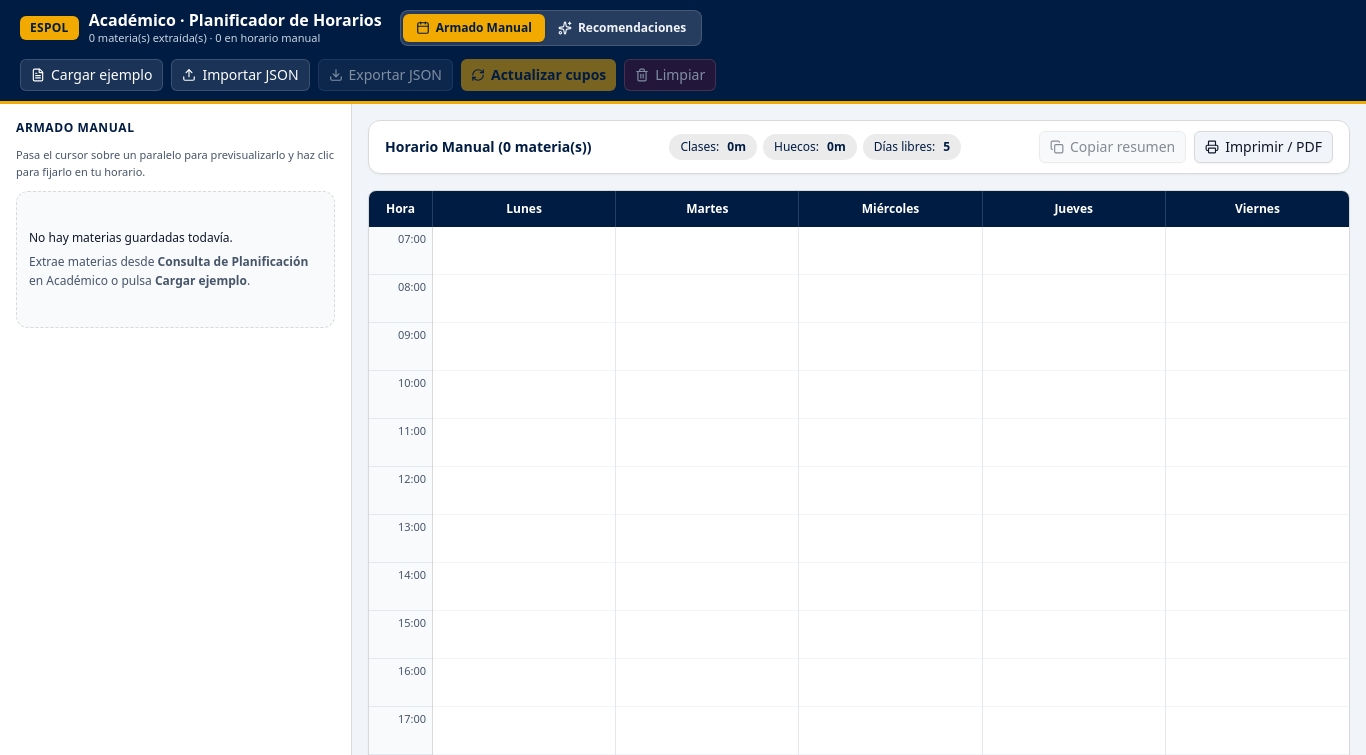
it: Planner App integration › loads sample courses, exports/imports JSON, switches between manual and auto modes, and copies/prints
Later steps or results of the test are not shown.
Click the button "Cargar ejemplo".
click(92, 74)  # box [20,58,163,90]
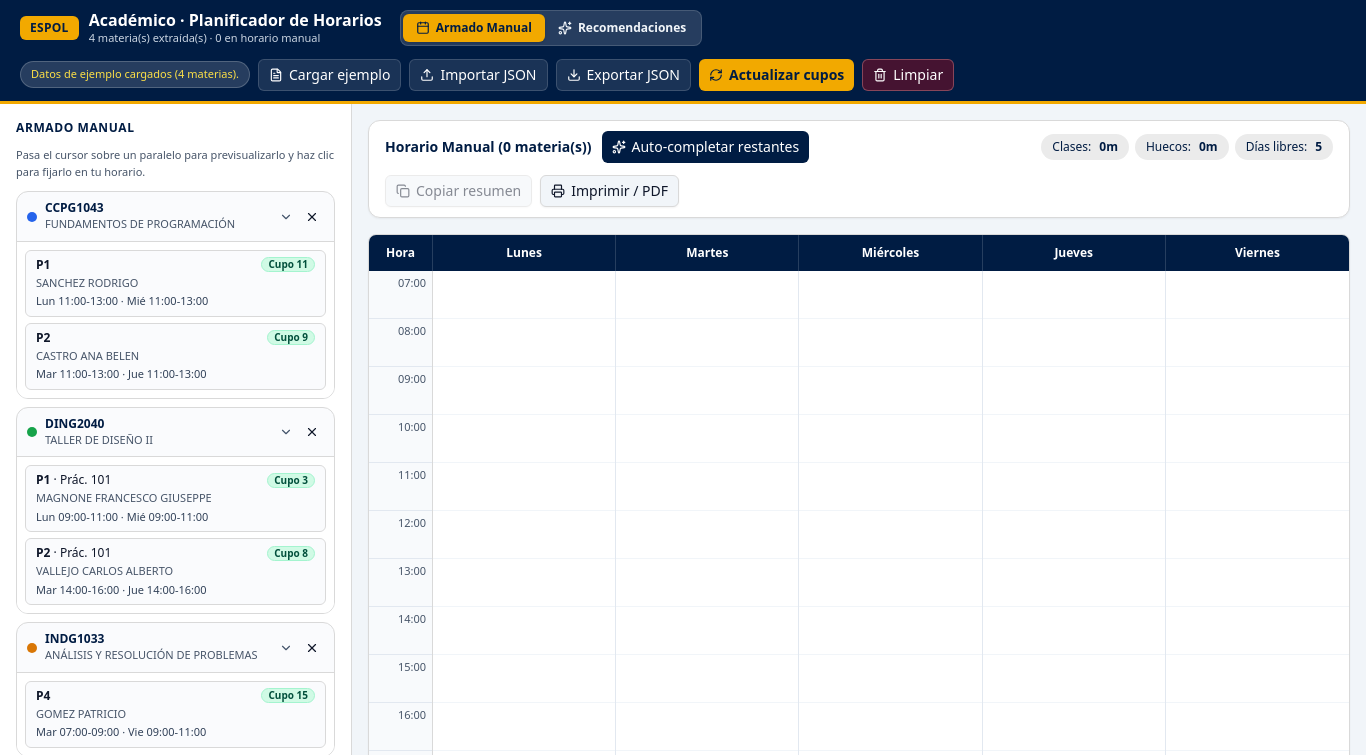
Expected: the text "Datos de ejemplo cargados (4 materias)." is shown, [20,61,250,88]
